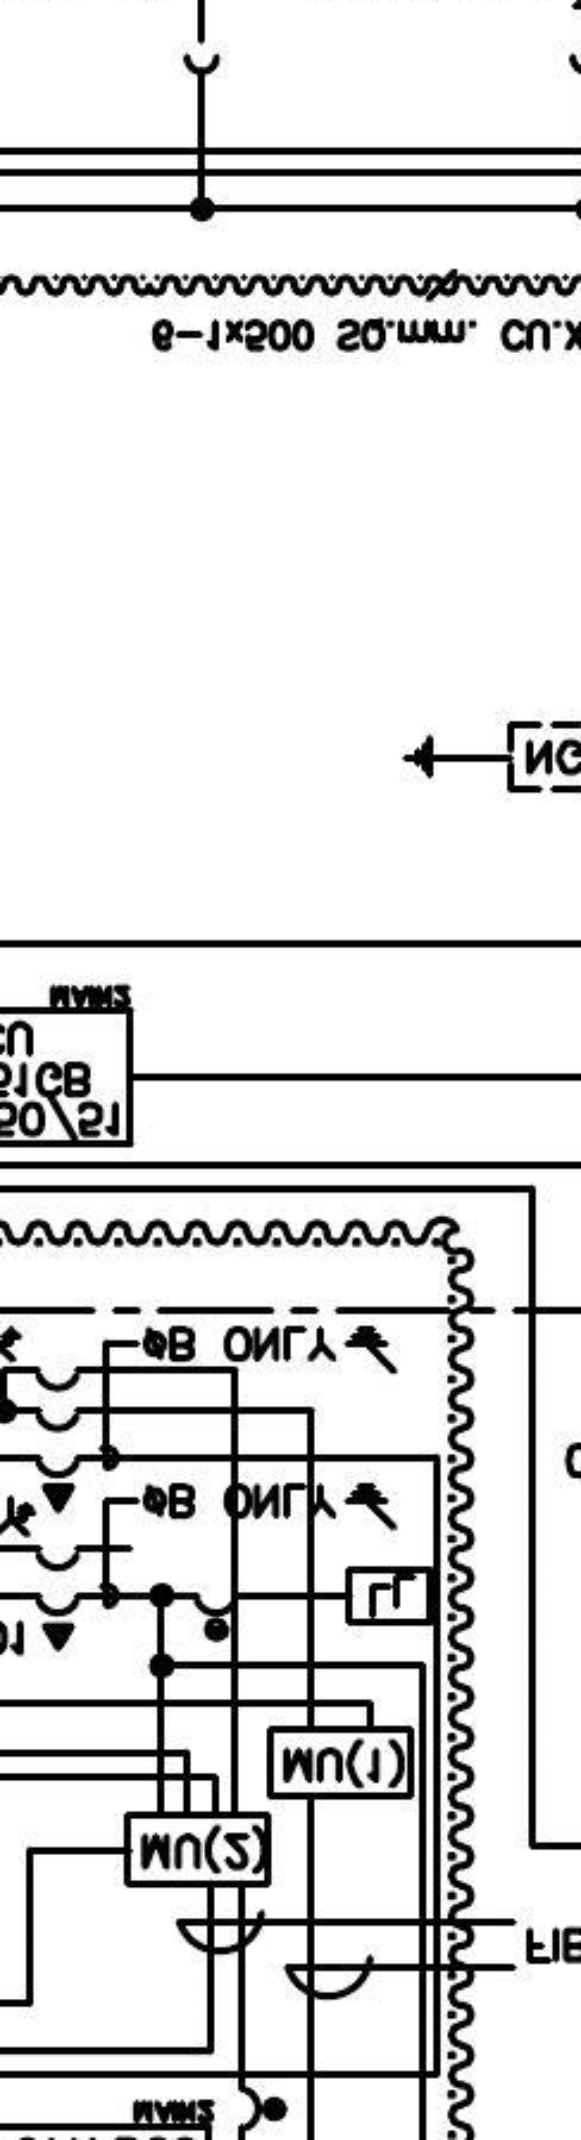LL: (344, 1564, 434, 1627)
MU: (123, 1810, 273, 1889), (266, 1724, 416, 1800)
